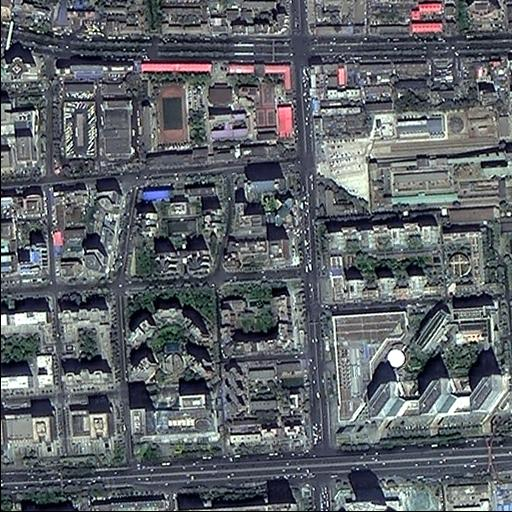school: (274, 358, 308, 397)
